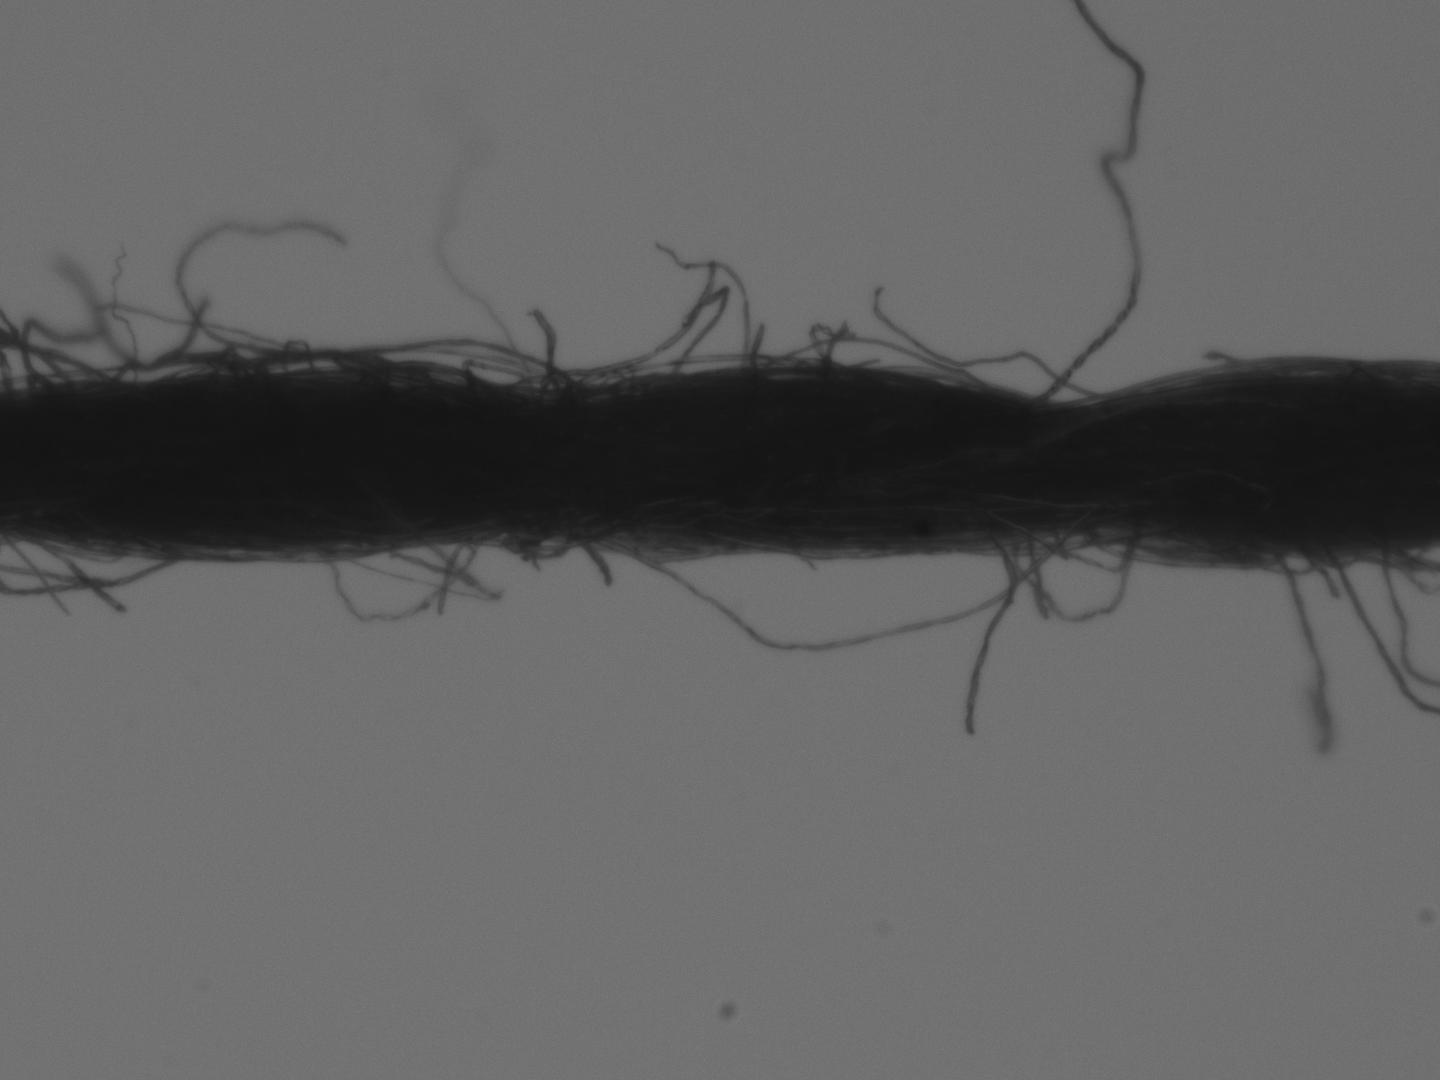loop_fiber: (103, 334, 571, 394), (981, 523, 1144, 630), (755, 334, 985, 391), (489, 523, 585, 566)
